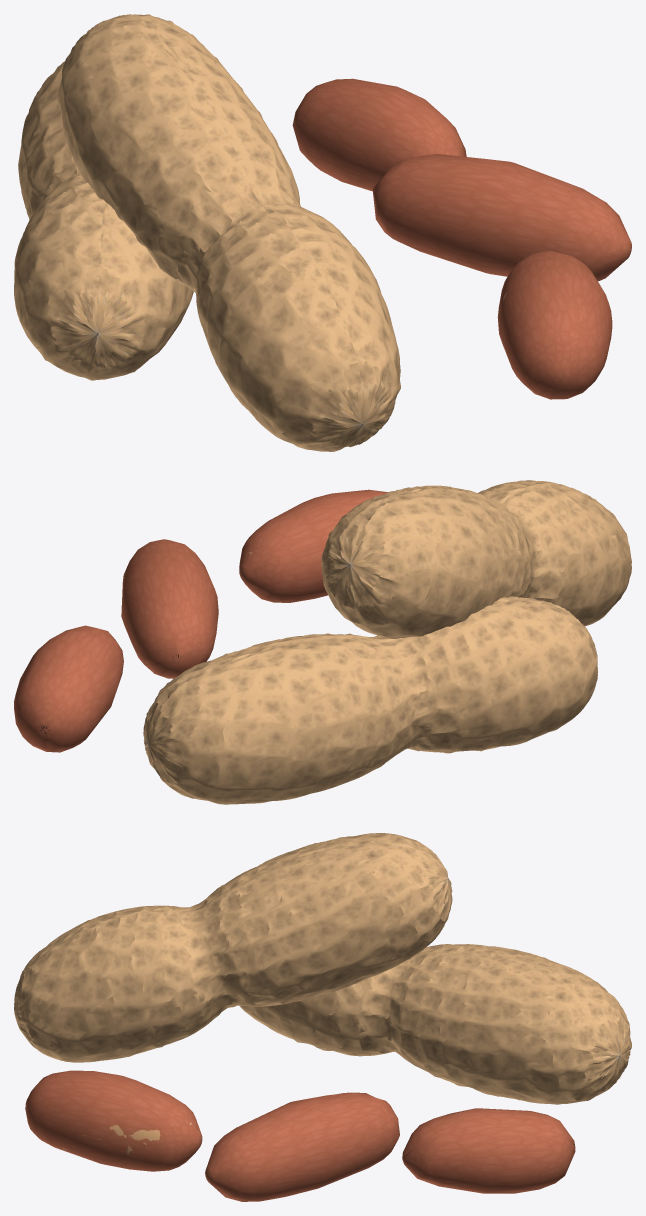
Rendered from kacangtanah.glb.
3 renders of one model, top to bottom at view 1: azimuth 30°, elevation 25°; view 2: azimuth 150°, elevation 25°; view 3: azimuth 270°, elevation 25°, orthographic. The views are drawn at different scales.
Visible parts, largest first — view 1: Sphere.001_Material.001_0, Sphere.002_Material.003_0, Sphere.006_Material.002_0; view 2: Sphere.001_Material.001_0, Sphere.002_Material.003_0, Sphere.006_Material.002_0; view 3: Sphere.001_Material.001_0, Sphere.002_Material.003_0, Sphere.006_Material.002_0.
Boxes of the visible parts, bbox=[...] form: Sphere.001_Material.001_0: bbox=[14, 14, 400, 451]; Sphere.002_Material.003_0: bbox=[292, 78, 631, 281]; Sphere.006_Material.002_0: bbox=[497, 250, 612, 399]; Sphere.001_Material.001_0: bbox=[143, 480, 631, 804]; Sphere.002_Material.003_0: bbox=[14, 539, 218, 752]; Sphere.006_Material.002_0: bbox=[239, 489, 387, 602]; Sphere.001_Material.001_0: bbox=[14, 833, 631, 1104]; Sphere.002_Material.003_0: bbox=[205, 1092, 575, 1201]; Sphere.006_Material.002_0: bbox=[25, 1070, 202, 1171].
Bounding box in the file's own units: 1.67 × 0.8287 × 2.
Materials: 2 (2 with a texture image).
